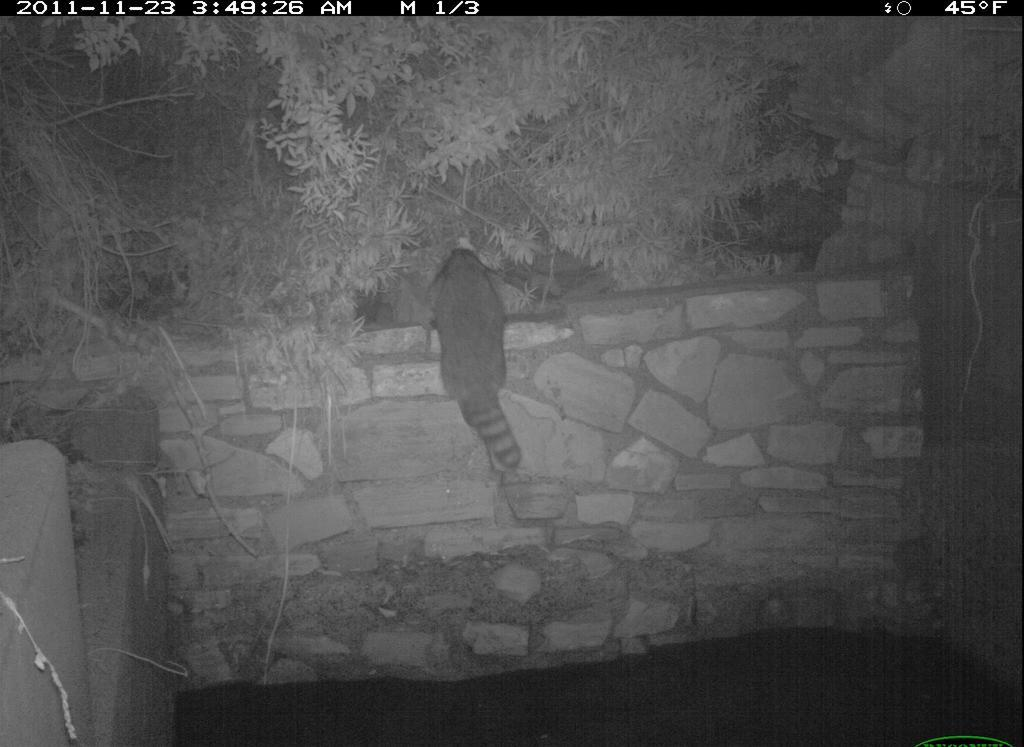raccoon: (420, 218, 542, 493)
